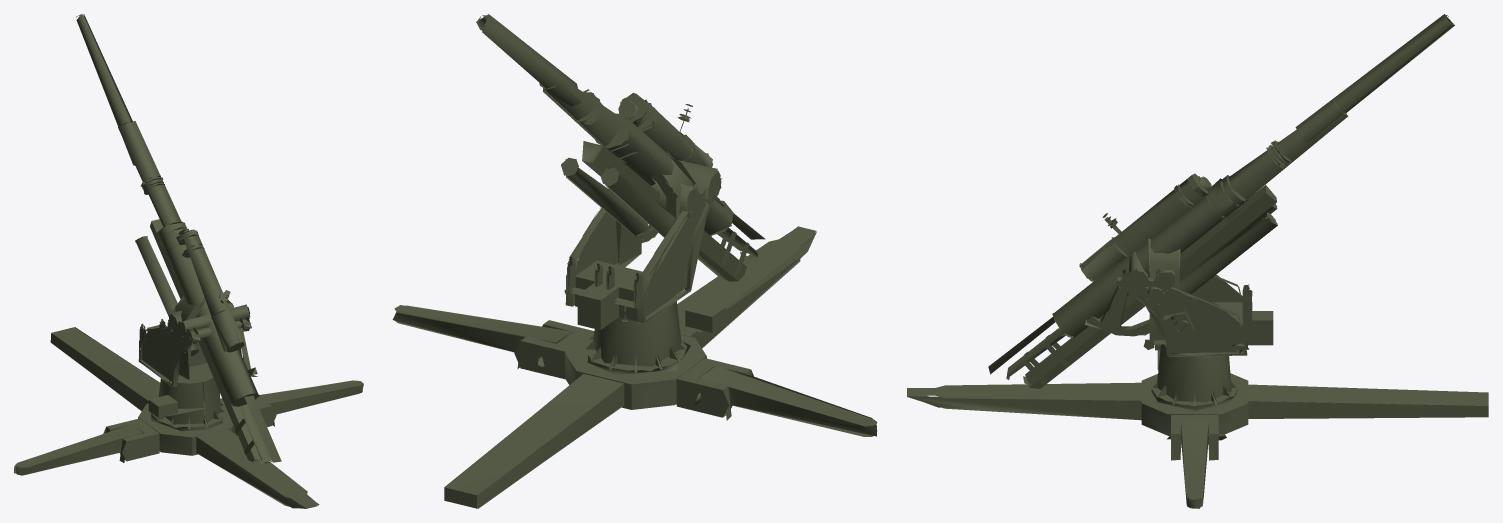
File: GenericAAA.glb
The picture shows the model from 3 angles, left to right: view 1: azimuth 30°, elevation 25°; view 2: azimuth 150°, elevation 25°; view 3: azimuth 270°, elevation 25°; orthographic projection. The views are drawn at different scales.
Parts seen in each view (by area): view 1: Asset Flak.003; view 2: Asset Flak.003; view 3: Asset Flak.003.
Boxes of the visible parts, bbox=[...] form: Asset Flak.003: bbox=[14, 14, 363, 508]; Asset Flak.003: bbox=[392, 14, 877, 508]; Asset Flak.003: bbox=[907, 14, 1488, 508].
Size of the model in its own units: 6.08 by 5.78 by 7.57.
